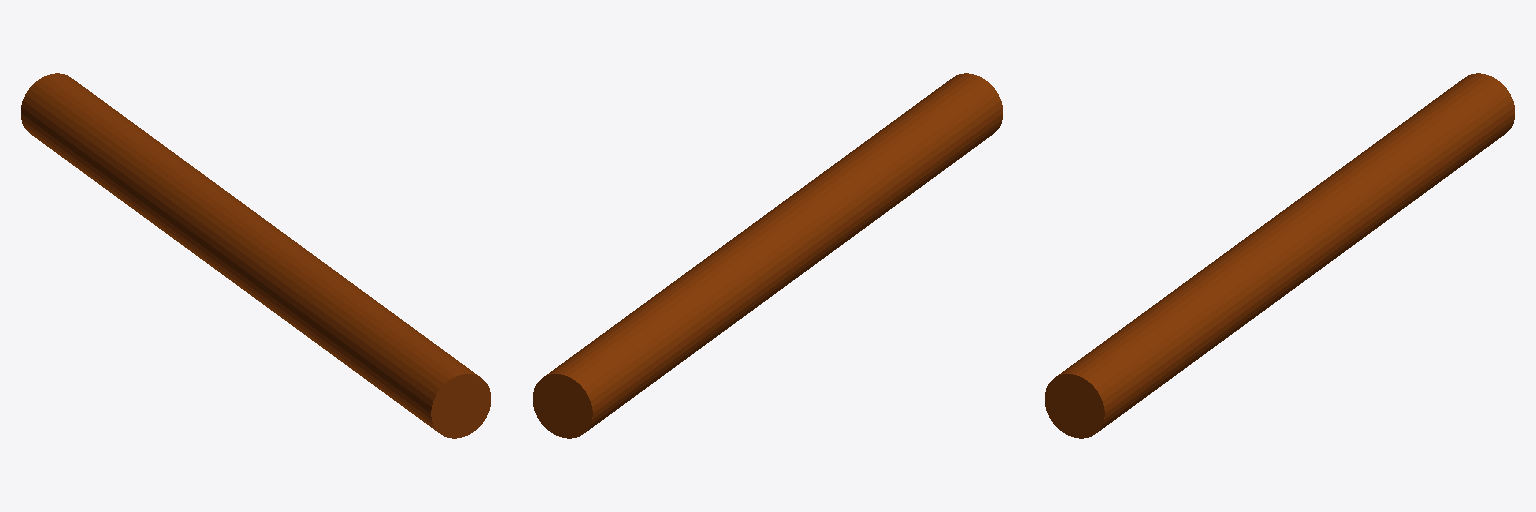
robot.urdf — cylinder:
<?xml version="1.0" ?>
<!-- =================================================================================== -->
<!-- |    This document was autogenerated by xacro from cylinder.xacro                 | -->
<!-- |    EDITING THIS FILE BY HAND IS NOT RECOMMENDED                                 | -->
<!-- =================================================================================== -->
<robot name="cylinder">
  <link name="world"/>
  <link name="base">
    <visual>
      <origin rpy="1.57079633 0 0" xyz="0 0 0"/>
      <geometry>
        <cylinder length="7.07106781185" radius="0.3"/>
      </geometry>
      <material name="cylinder_material">
        <color rgba="0.545 0.271 0.075 1.0"/>
        <texture filename="../textures/tree_bark.jpg"/>
      </material>
    </visual>
    <collision>
      <origin rpy="1.57079633 0 0" xyz="0 0 0"/>
      <geometry>
        <cylinder length="7.07106781185" radius="0.3"/>
      </geometry>
    </collision>
    <inertial>
      <origin rpy="0 0 0" xyz="0 0 0"/>
      <mass value="1"/>
      <inertia ixx="4.189166666648429" ixy="0.0" ixz="0.0" iyy="4.189166666648429" iyz="0.0" izz="24.999999999890573"/>
    </inertial>
  </link>
  <joint name="base_joint" type="fixed">
    <parent link="world"/>
    <child link="base"/>
    <origin rpy="0 0 0" xyz="0.0 0.0 0.0"/>
  </joint>
</robot>

--- Facts derived from the render (not from the file) ---
Views: 3 orthographic renders of the robot side by side, from view 1: azimuth 30°, elevation 25°; view 2: azimuth 150°, elevation 25°; view 3: azimuth 330°, elevation 25°.
Robot: cylinder — 2 links, 1 joints (1 fixed); root link world; default pose: all joints at 0.
Visible links, largest first — view 1: base; view 2: base; view 3: base.
Boxes of the visible links, left/top/right/bottom form: base: left=21, top=73, right=490, bottom=438; base: left=533, top=73, right=1002, bottom=438; base: left=1045, top=73, right=1514, bottom=438.
Bounding box of the posed robot: 0.6 × 7.07 × 0.6 m (x, y, z).
Geometry: primitives only (box / cylinder / sphere), no mesh files.
